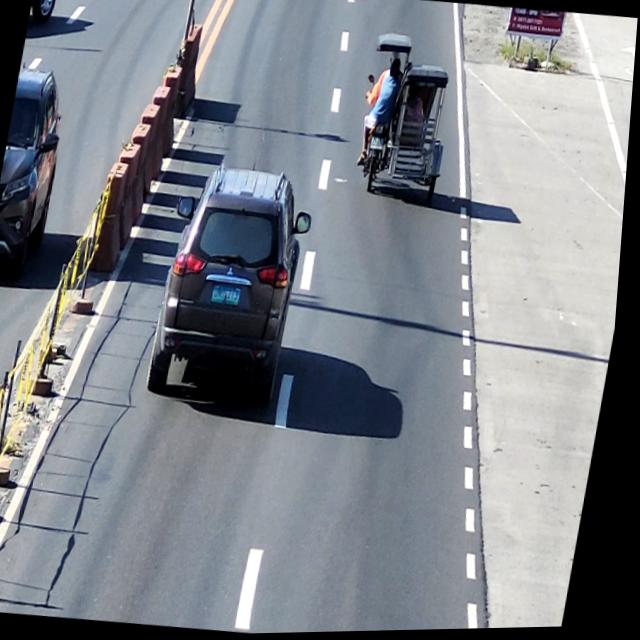Car: (153, 161, 317, 415), (0, 62, 75, 285)
License-Plate: (212, 279, 248, 313), (371, 137, 387, 152)
Tricycle: (345, 30, 469, 211)
